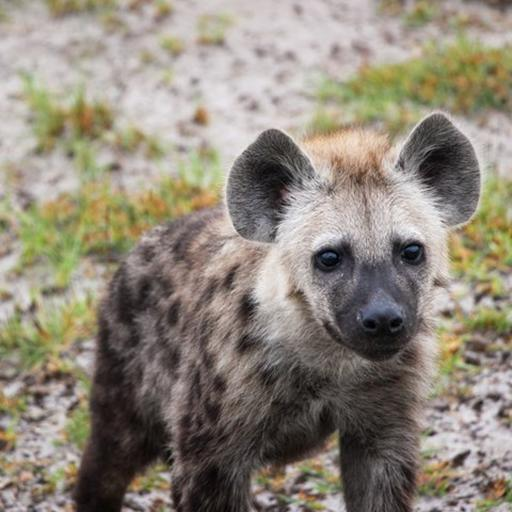Hyena: (75, 109, 485, 512)
